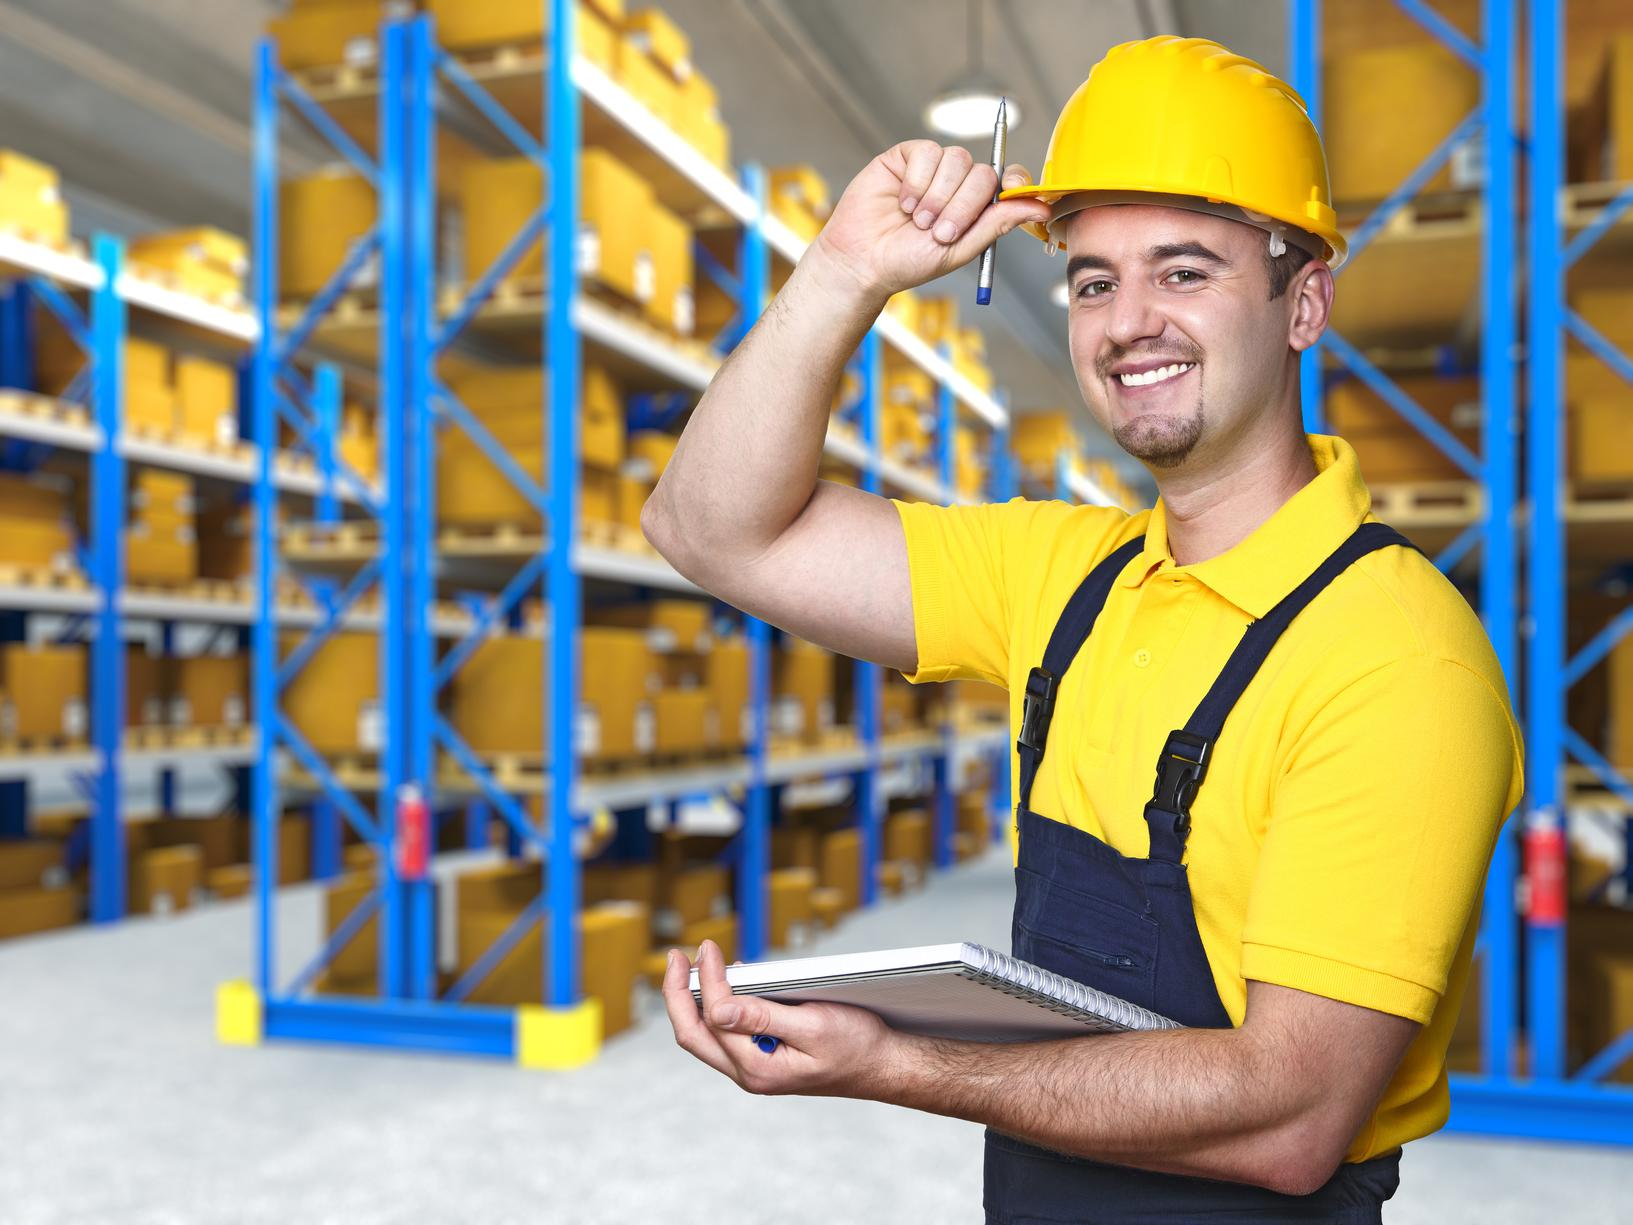helmet: (997, 27, 1349, 266)
